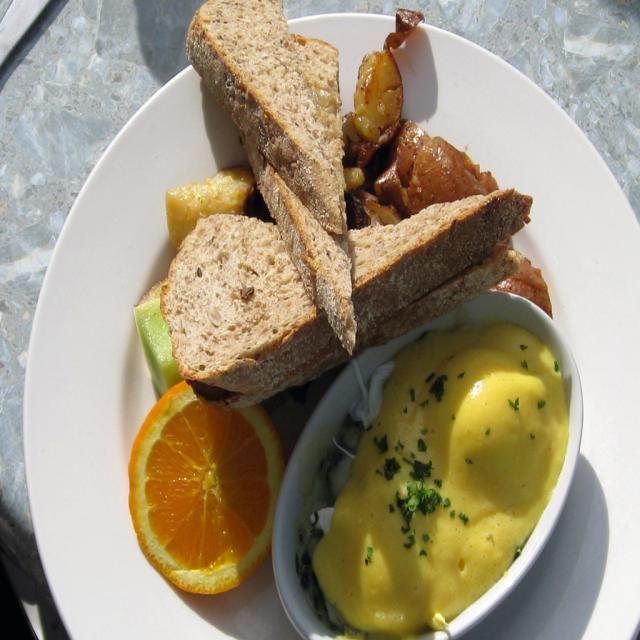Orange: (122, 389, 281, 607)
